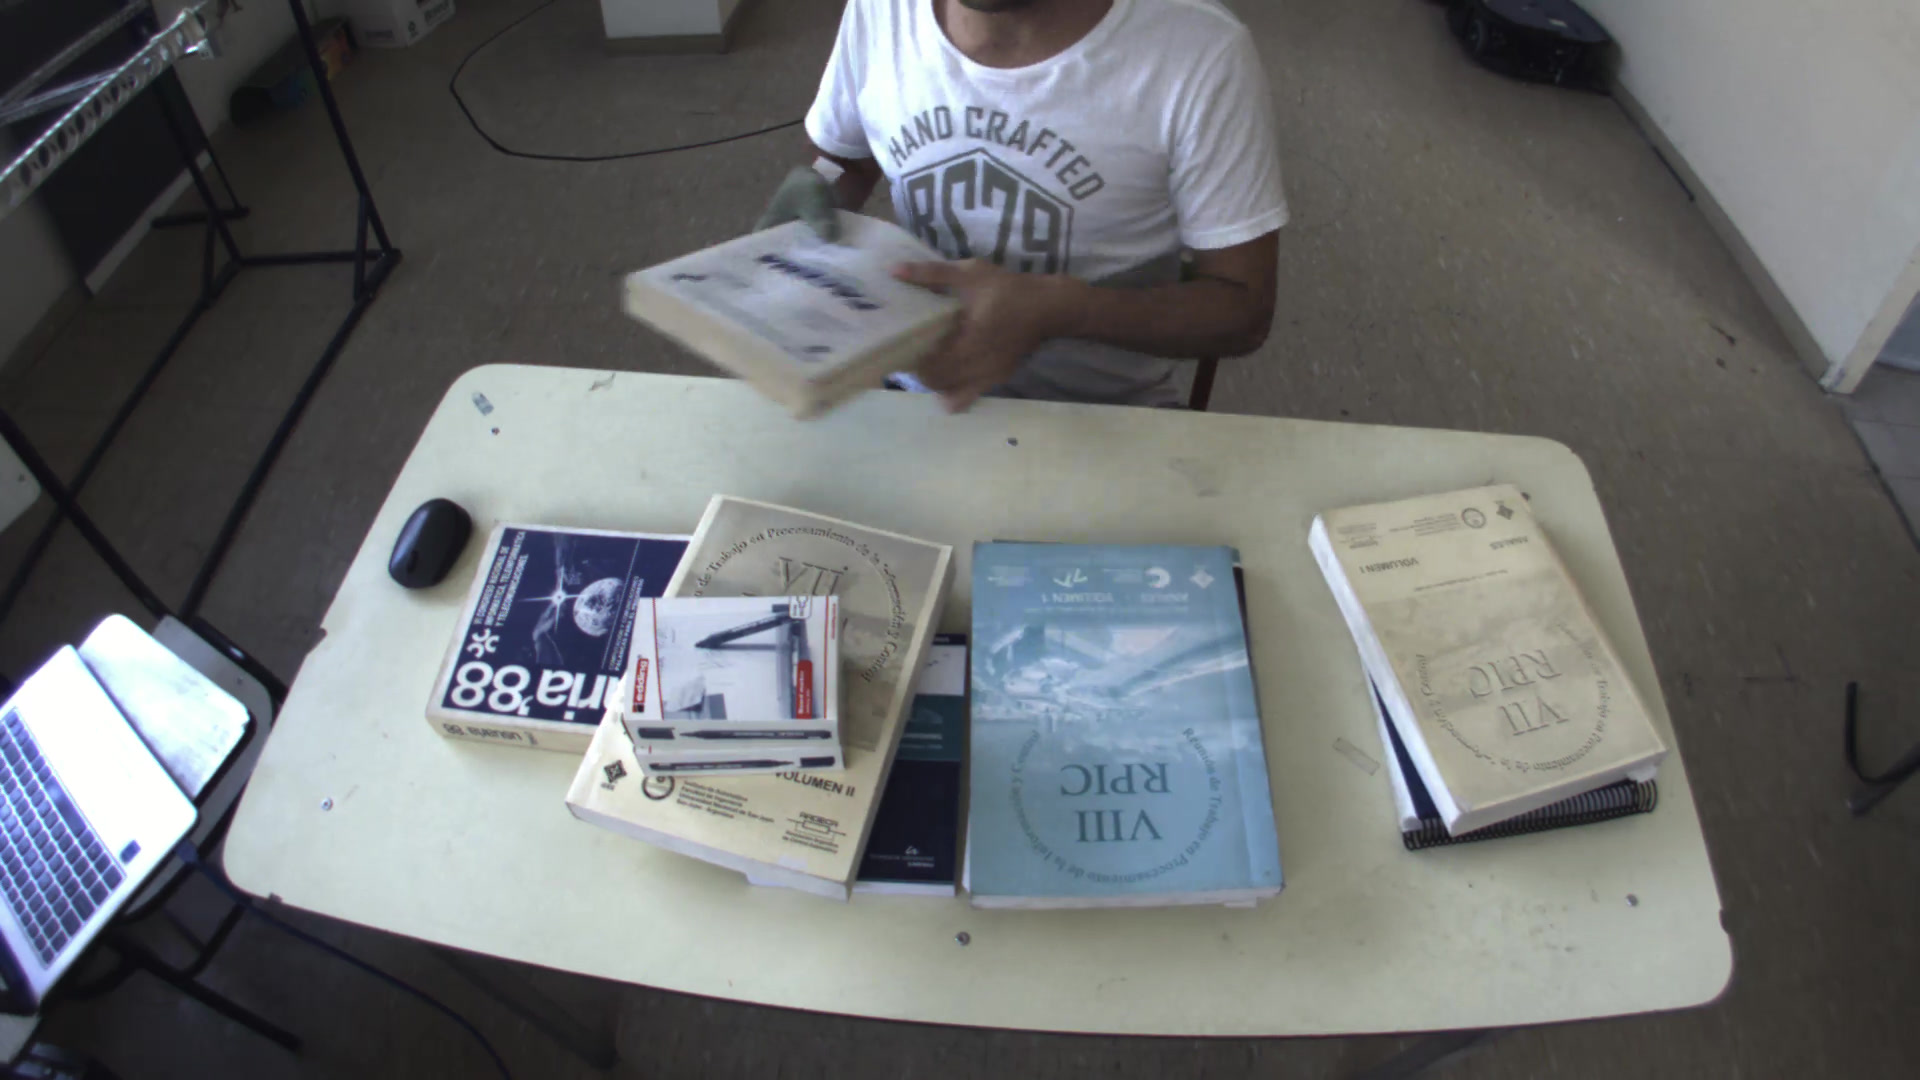hand: (885, 241, 1048, 414)
